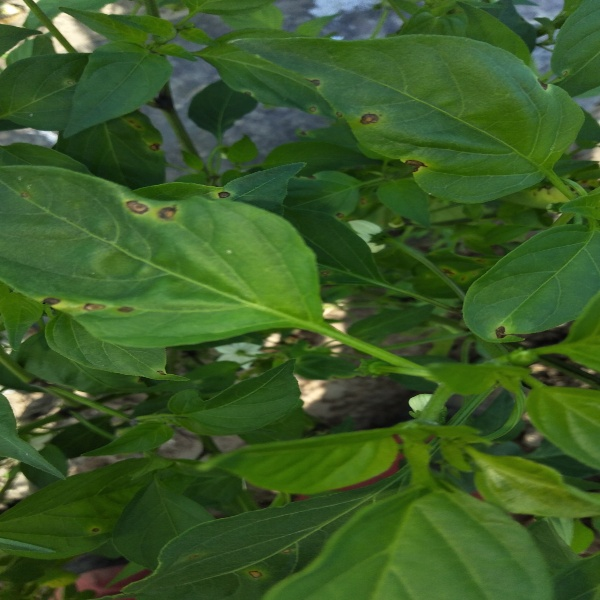Anthrax: (315, 77, 386, 132), (38, 291, 137, 323), (120, 191, 184, 229), (486, 317, 520, 347), (211, 182, 239, 209), (84, 521, 107, 541)
